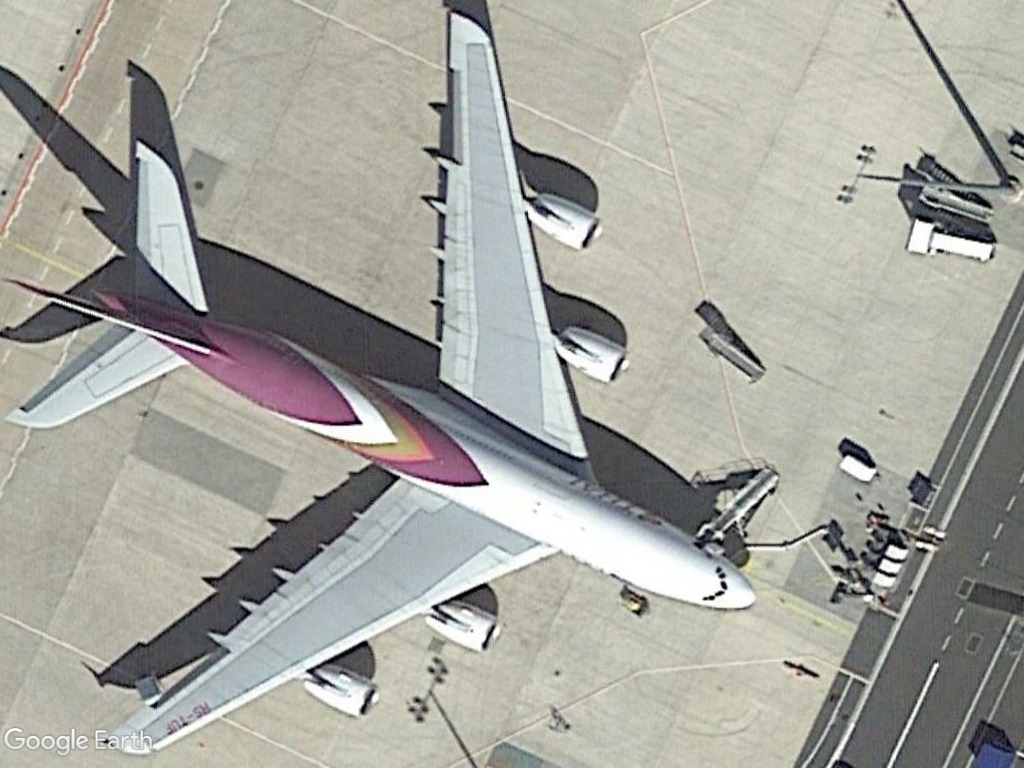airliner: (0, 2, 768, 758)
